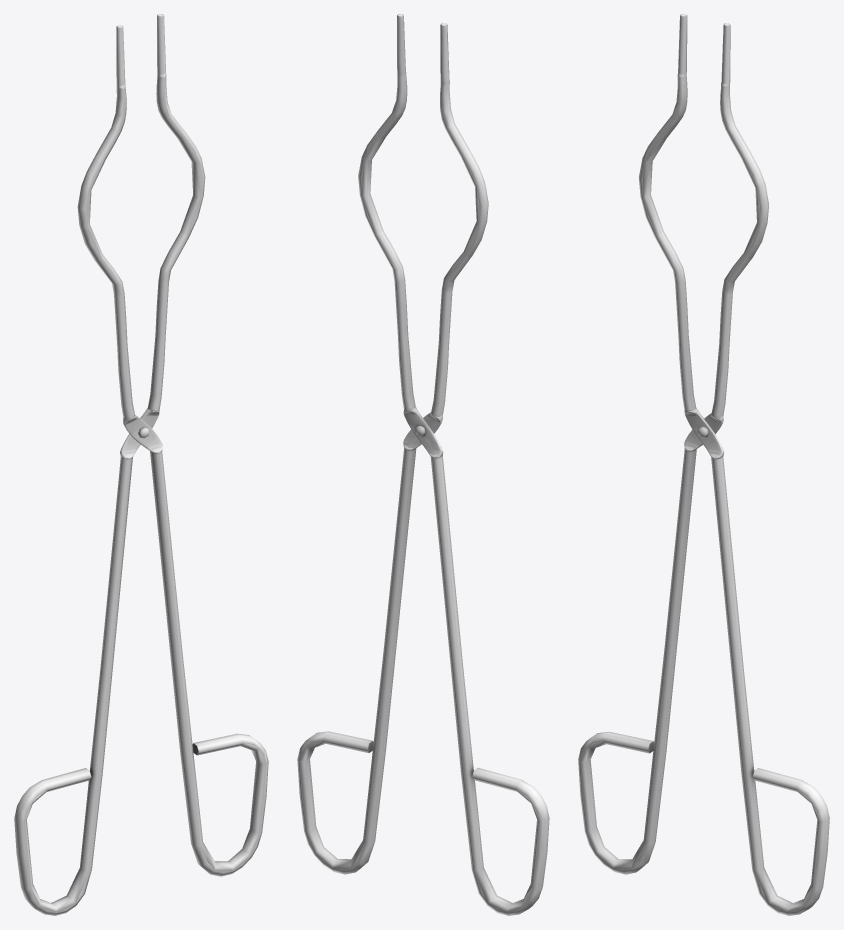
File: Curcible_tongs.fbx
3 renders of one model, left to right at view 1: azimuth 30°, elevation 25°; view 2: azimuth 150°, elevation 25°; view 3: azimuth 330°, elevation 25°, orthographic.
Parts seen in each view (by area): view 1: Curcible_tongs_R0, Curcible_tongs_L1, Curcible_tongs_L0, Curcible_tongs_R2, Curcible_tongs_L2, Curcible_tongs_R1; view 2: Curcible_tongs_R0, Curcible_tongs_L1, Curcible_tongs_L0, Curcible_tongs_R2, Curcible_tongs_L2, Curcible_tongs_R1; view 3: Curcible_tongs_R0, Curcible_tongs_L0, Curcible_tongs_L1, Curcible_tongs_R2, Curcible_tongs_R1, Curcible_tongs_L2.
Boxes of the visible parts, x1,y1,x2,y2 form: Curcible_tongs_R0: (77, 25, 268, 876); Curcible_tongs_L1: (24, 14, 202, 912); Curcible_tongs_L0: (14, 14, 205, 915); Curcible_tongs_R2: (87, 27, 265, 871); Curcible_tongs_L2: (123, 15, 201, 455); Curcible_tongs_R1: (179, 652, 266, 871); Curcible_tongs_R0: (297, 23, 488, 874); Curcible_tongs_L1: (361, 14, 539, 912); Curcible_tongs_L0: (358, 14, 549, 915); Curcible_tongs_R2: (300, 33, 479, 868); Curcible_tongs_L2: (362, 22, 439, 455); Curcible_tongs_R1: (300, 649, 386, 869); Curcible_tongs_R0: (639, 14, 829, 915); Curcible_tongs_L0: (578, 23, 768, 874); Curcible_tongs_L1: (580, 23, 760, 869); Curcible_tongs_R2: (642, 15, 819, 912); Curcible_tongs_R1: (734, 668, 819, 911); Curcible_tongs_L2: (685, 25, 759, 450).
Size of the model in its own units: 6.18 by 20.66 by 0.4228.
